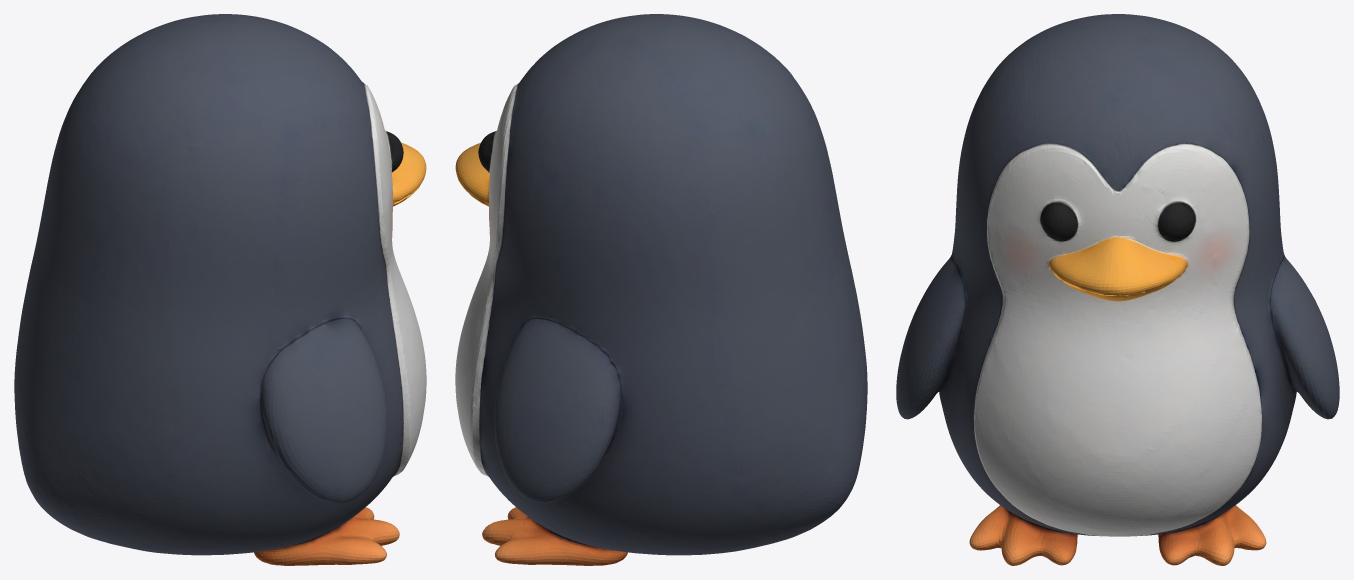
File: special-04.glb
The picture shows the model from 3 angles, left to right: view 1: azimuth 30°, elevation 25°; view 2: azimuth 150°, elevation 25°; view 3: azimuth 270°, elevation 25°; orthographic projection. The views are drawn at different scales.
Visible parts, largest first — view 1: tripo_node_0c83d885-ff20-4b2f-98ff-43bbddc7b092; view 2: tripo_node_0c83d885-ff20-4b2f-98ff-43bbddc7b092; view 3: tripo_node_0c83d885-ff20-4b2f-98ff-43bbddc7b092.
Boxes of the visible parts, <box> form: tripo_node_0c83d885-ff20-4b2f-98ff-43bbddc7b092: <box>14,14,426,565</box>; tripo_node_0c83d885-ff20-4b2f-98ff-43bbddc7b092: <box>455,14,867,565</box>; tripo_node_0c83d885-ff20-4b2f-98ff-43bbddc7b092: <box>896,14,1339,565</box>.
Bounding box in the file's own units: 0.8145 × 0.9996 × 0.837.
Materials: 1 (1 with a texture image).
